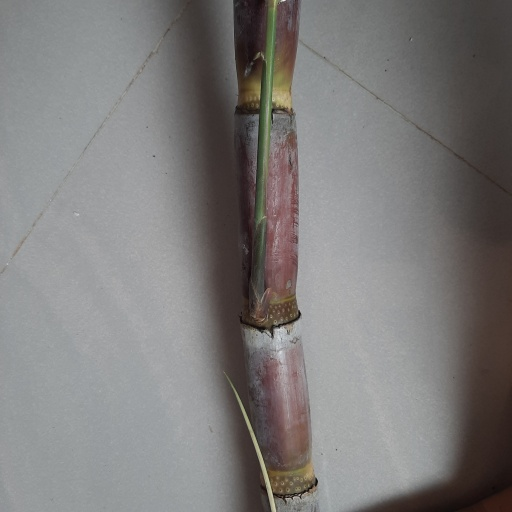Sprouted_Bud: (247, 246, 269, 325)
